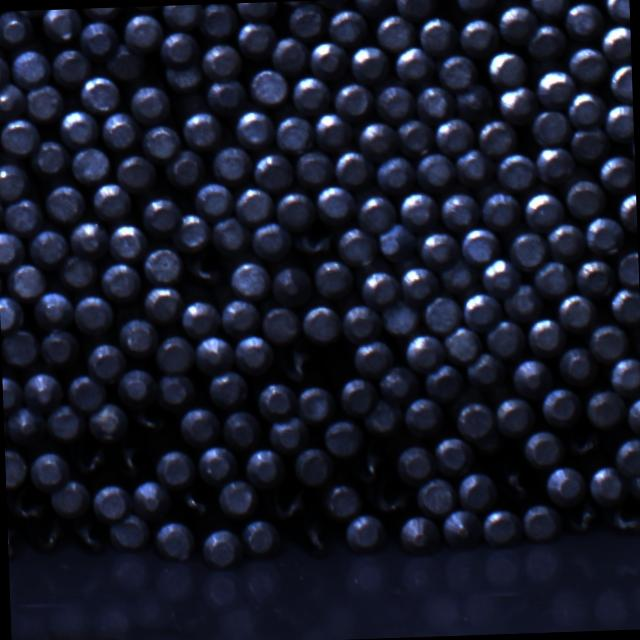tool: (417, 228, 461, 270), (544, 464, 586, 506), (541, 386, 583, 428), (276, 188, 318, 230), (252, 150, 294, 192), (216, 478, 258, 520), (313, 258, 355, 300), (182, 110, 224, 152), (229, 259, 271, 301), (178, 405, 220, 447), (100, 262, 142, 304), (356, 120, 398, 162), (21, 370, 62, 413), (509, 357, 552, 398), (233, 332, 274, 374), (74, 294, 116, 335), (344, 513, 386, 554), (244, 446, 285, 488), (584, 388, 626, 429), (522, 188, 563, 230), (58, 106, 99, 148), (414, 475, 456, 516), (557, 344, 598, 386), (131, 478, 172, 520), (212, 145, 254, 186), (233, 108, 274, 150), (154, 518, 195, 560), (334, 148, 375, 190), (358, 267, 401, 307), (483, 49, 528, 87), (10, 48, 51, 89), (404, 397, 445, 438), (88, 402, 129, 443), (271, 264, 312, 305), (432, 434, 473, 475), (316, 183, 357, 224), (156, 332, 197, 373), (45, 183, 86, 224), (68, 218, 109, 259), (439, 189, 480, 230), (116, 154, 158, 194), (252, 220, 294, 260), (461, 290, 501, 332), (49, 478, 91, 518), (526, 316, 566, 358), (378, 364, 420, 404), (588, 463, 628, 505), (79, 72, 121, 112), (128, 84, 170, 124), (454, 148, 496, 188), (222, 408, 262, 450), (587, 321, 629, 361), (482, 188, 522, 230), (313, 110, 353, 152), (162, 147, 204, 187), (268, 415, 310, 455), (394, 44, 436, 84), (140, 194, 180, 236), (320, 480, 363, 519), (154, 445, 194, 486), (122, 12, 162, 53), (544, 221, 584, 262), (5, 404, 46, 444), (310, 38, 350, 79), (355, 192, 396, 232), (522, 428, 563, 468), (455, 400, 496, 440), (32, 289, 73, 329), (300, 302, 340, 343), (198, 443, 238, 484), (290, 74, 331, 114), (1, 116, 42, 156), (404, 331, 444, 372), (424, 362, 465, 402), (494, 396, 534, 437), (118, 367, 158, 408), (362, 398, 403, 438), (118, 318, 158, 359), (398, 189, 438, 230), (200, 42, 241, 82), (202, 525, 242, 566), (398, 514, 439, 554), (442, 508, 482, 549), (583, 216, 624, 256), (211, 214, 251, 255), (258, 378, 298, 419), (416, 151, 457, 191), (535, 144, 576, 184), (295, 384, 334, 426), (374, 13, 416, 52), (145, 284, 184, 326), (496, 84, 538, 123), (456, 470, 496, 510), (46, 404, 86, 444), (324, 418, 364, 458), (30, 450, 70, 490), (236, 184, 276, 224), (79, 20, 119, 60), (521, 502, 561, 542), (260, 304, 300, 344), (292, 446, 332, 486), (52, 48, 92, 88), (196, 335, 236, 375), (342, 302, 382, 342), (423, 293, 463, 333), (92, 482, 132, 522), (2, 195, 42, 235), (575, 256, 615, 296), (250, 66, 290, 106), (336, 226, 376, 266), (28, 228, 68, 268), (458, 17, 498, 57), (486, 320, 526, 360), (557, 292, 597, 332), (349, 44, 389, 84), (222, 296, 262, 336), (86, 342, 126, 382), (566, 178, 606, 218), (94, 182, 134, 222), (182, 296, 222, 336), (464, 350, 504, 390), (337, 376, 376, 417), (328, 8, 369, 47), (209, 369, 250, 408), (377, 81, 418, 120), (351, 338, 393, 376), (436, 258, 478, 296), (274, 115, 314, 154), (459, 225, 499, 264), (192, 180, 232, 219), (270, 36, 309, 76), (418, 15, 458, 54), (68, 373, 108, 412), (100, 111, 140, 150), (41, 329, 81, 368), (482, 507, 522, 546), (107, 222, 146, 262), (396, 444, 435, 484), (416, 85, 456, 124), (378, 157, 418, 196), (377, 222, 417, 261), (241, 517, 280, 557), (396, 118, 436, 157), (534, 69, 574, 108), (5, 264, 46, 302), (140, 124, 181, 162), (432, 117, 473, 155), (332, 82, 373, 120), (532, 260, 573, 298), (235, 20, 276, 58), (109, 514, 150, 552), (443, 326, 482, 365), (1, 327, 40, 366), (496, 152, 536, 190), (380, 298, 420, 336), (506, 230, 546, 268), (174, 212, 212, 252), (478, 117, 518, 155), (294, 150, 334, 188), (501, 282, 541, 320), (400, 264, 440, 302), (498, 4, 536, 44), (480, 258, 520, 296), (143, 245, 183, 283), (568, 46, 608, 84), (72, 146, 113, 183), (205, 76, 247, 112), (532, 110, 574, 146), (26, 84, 64, 123), (456, 80, 495, 118), (106, 43, 146, 80), (570, 125, 610, 162), (158, 372, 196, 410), (566, 88, 604, 126), (289, 1, 328, 38), (438, 51, 477, 88), (28, 138, 68, 174), (41, 8, 81, 44), (57, 253, 97, 289), (528, 25, 568, 61), (562, 0, 600, 37), (596, 154, 634, 190), (160, 31, 198, 66), (608, 356, 640, 397), (200, 3, 237, 37), (0, 10, 32, 49), (608, 287, 640, 325), (604, 102, 634, 142), (602, 24, 631, 62), (164, 62, 203, 90), (613, 436, 640, 475), (0, 161, 27, 199), (608, 60, 632, 102), (162, 4, 203, 28), (0, 80, 25, 119), (5, 445, 28, 487), (0, 230, 24, 270), (0, 293, 24, 331), (2, 373, 23, 413), (618, 248, 639, 286), (618, 190, 637, 232), (393, 0, 436, 18), (236, 2, 278, 20), (354, 0, 396, 15), (626, 395, 640, 436), (78, 6, 125, 18), (456, 0, 495, 13), (534, 0, 565, 16), (628, 468, 640, 501), (0, 52, 10, 91), (313, 0, 351, 8), (13, 10, 48, 16), (0, 190, 4, 231)
tool_b: (366, 477, 412, 515), (292, 516, 332, 559), (277, 342, 318, 382), (497, 463, 537, 502), (182, 251, 224, 288), (265, 486, 308, 522), (70, 518, 108, 556), (350, 443, 387, 482), (10, 487, 50, 522), (128, 404, 168, 438), (563, 427, 602, 461), (601, 503, 640, 537), (30, 520, 66, 556), (114, 441, 148, 478), (177, 486, 213, 520), (72, 443, 108, 477), (564, 500, 598, 536), (296, 230, 336, 256), (602, 0, 629, 21)
